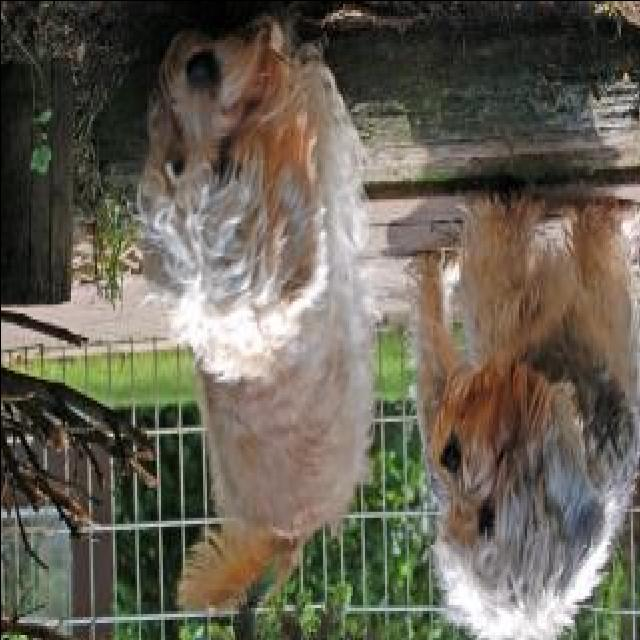dandie_dinmont: (136, 9, 374, 622), (404, 186, 638, 640)
